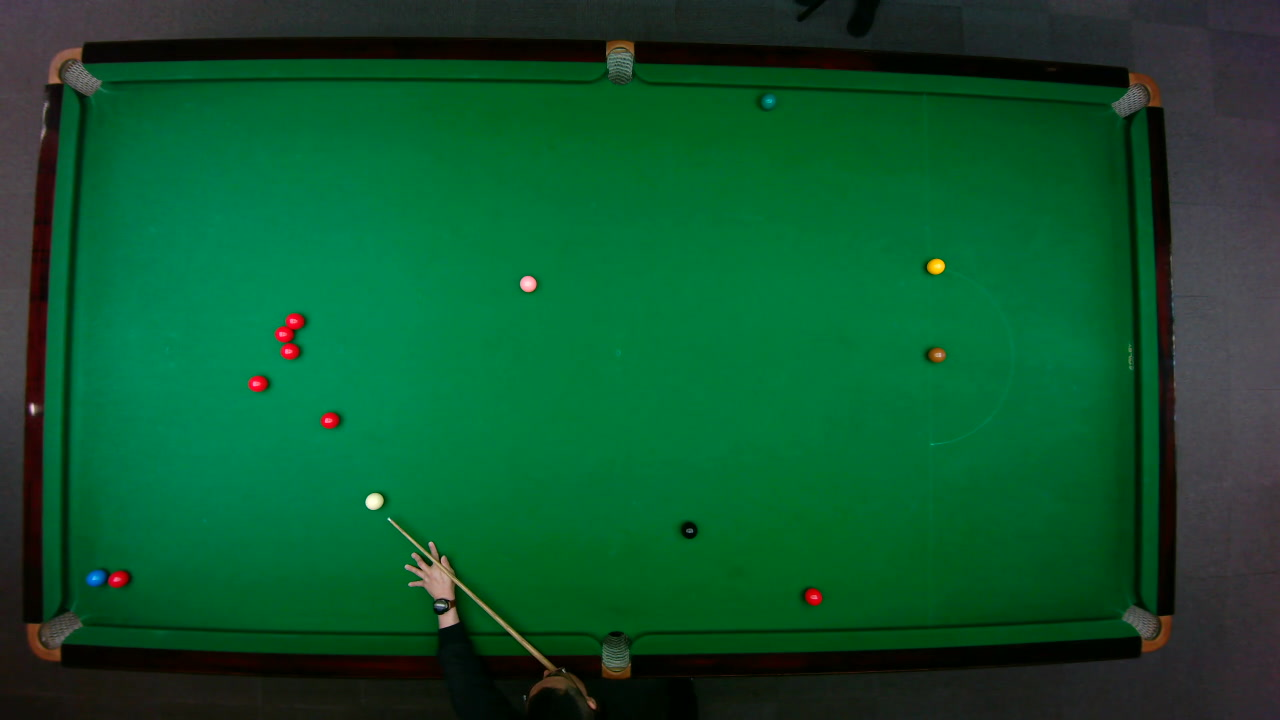bag: (24, 609, 84, 661), (45, 46, 102, 96), (1119, 603, 1172, 652), (1108, 71, 1161, 117), (601, 629, 629, 679), (605, 38, 633, 85)
black: (679, 520, 697, 538), (431, 597, 450, 613)
blue: (85, 567, 106, 586)
brown: (926, 346, 946, 362)
cue: (385, 515, 557, 675)
green: (759, 92, 776, 110)
pink: (518, 274, 537, 292)
red: (105, 568, 130, 588), (318, 410, 340, 429), (803, 586, 823, 606), (284, 311, 305, 330), (246, 374, 268, 392), (273, 324, 293, 342), (279, 342, 300, 359)
white: (363, 491, 384, 509)
yellow: (925, 257, 945, 274)
zone: (926, 266, 1013, 445)
